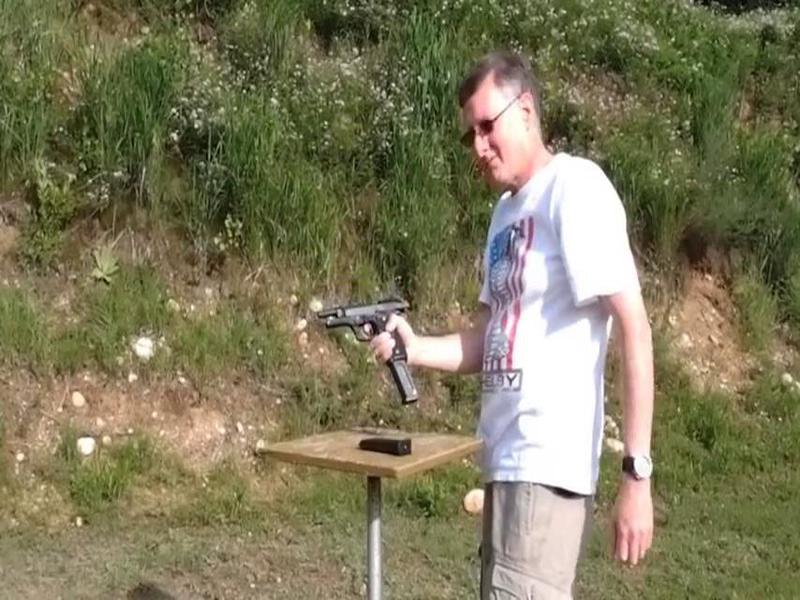Pistola: (324, 282, 427, 374)
